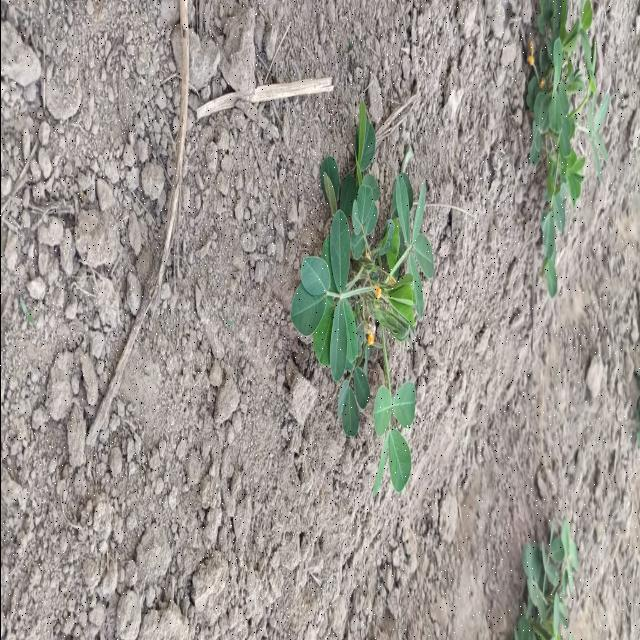plant: (290, 104, 432, 491)
